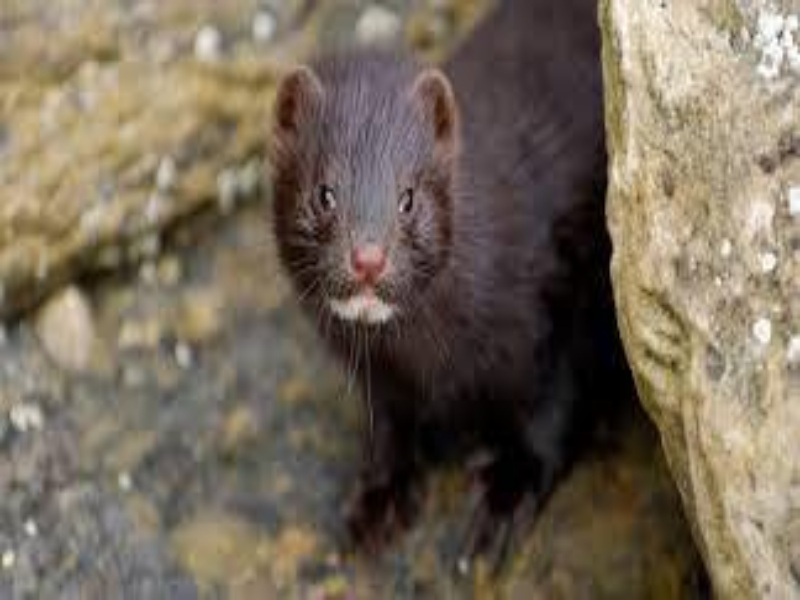minkish: (267, 3, 605, 568)
